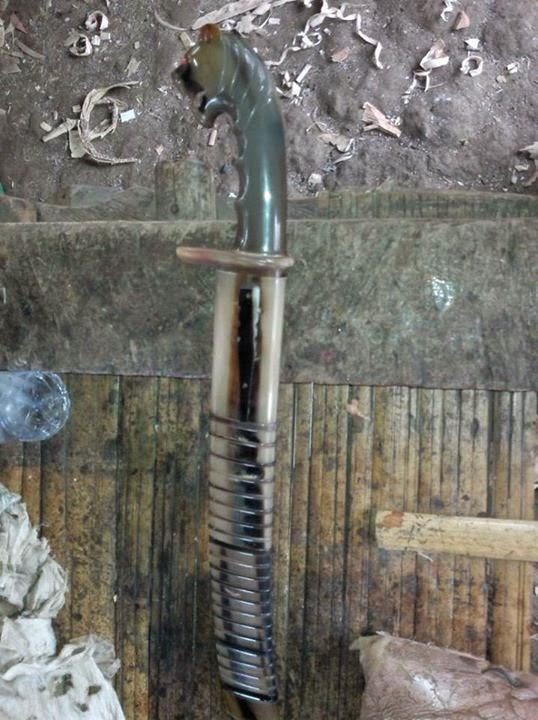facao: (161, 30, 287, 696)
